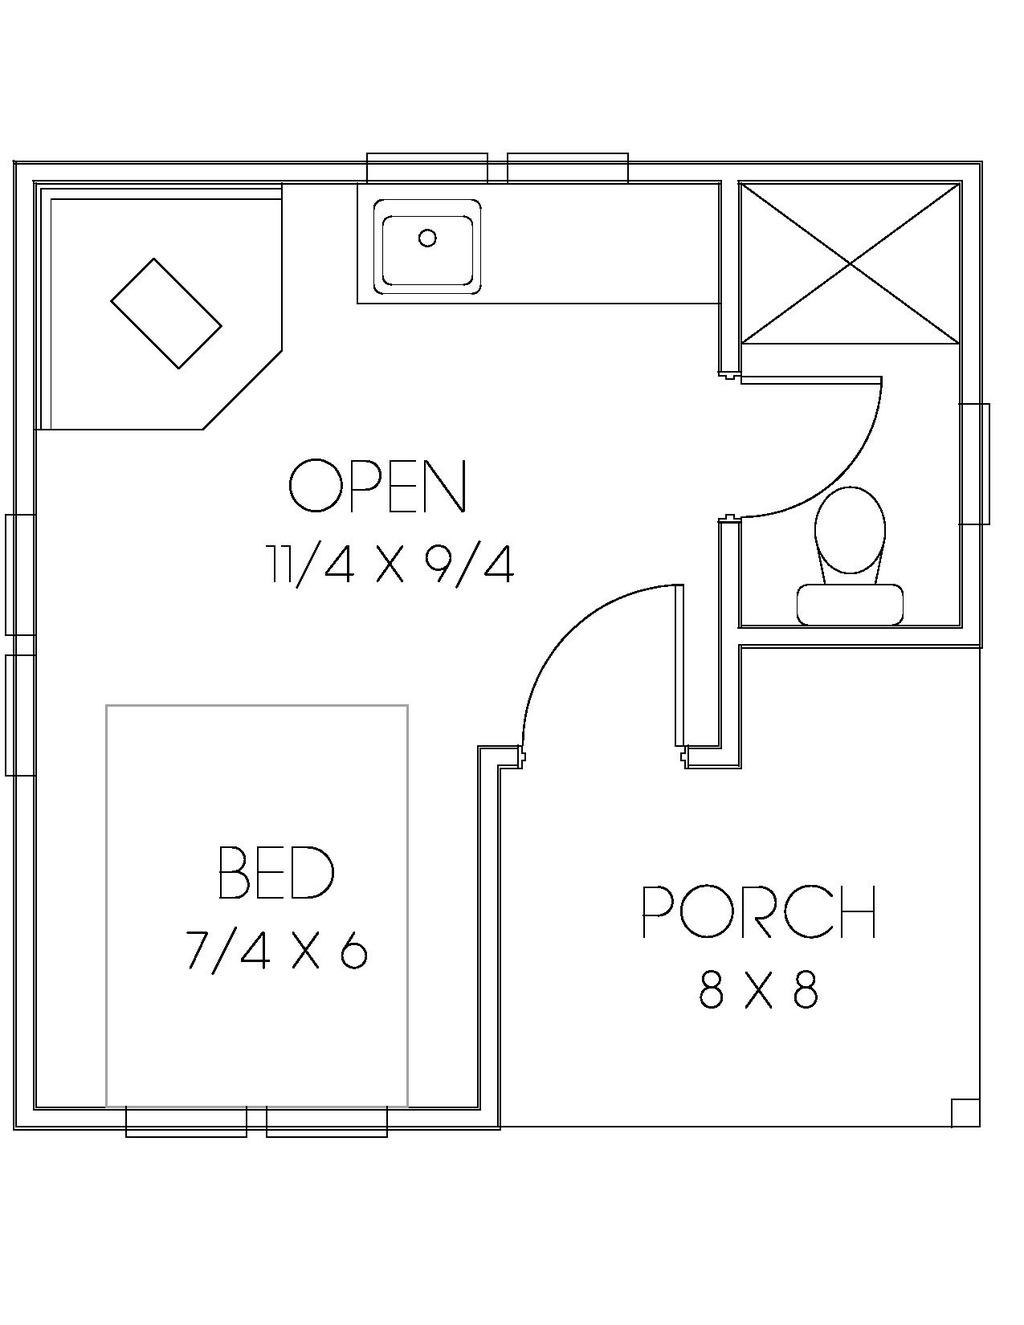door: (527, 571, 696, 769), (731, 369, 884, 527), (798, 486, 912, 635)
sink: (371, 198, 506, 304)
window: (255, 1106, 392, 1151), (353, 145, 494, 188), (500, 145, 635, 188), (953, 402, 998, 527), (118, 1110, 257, 1149), (4, 649, 45, 778), (2, 510, 37, 645)
